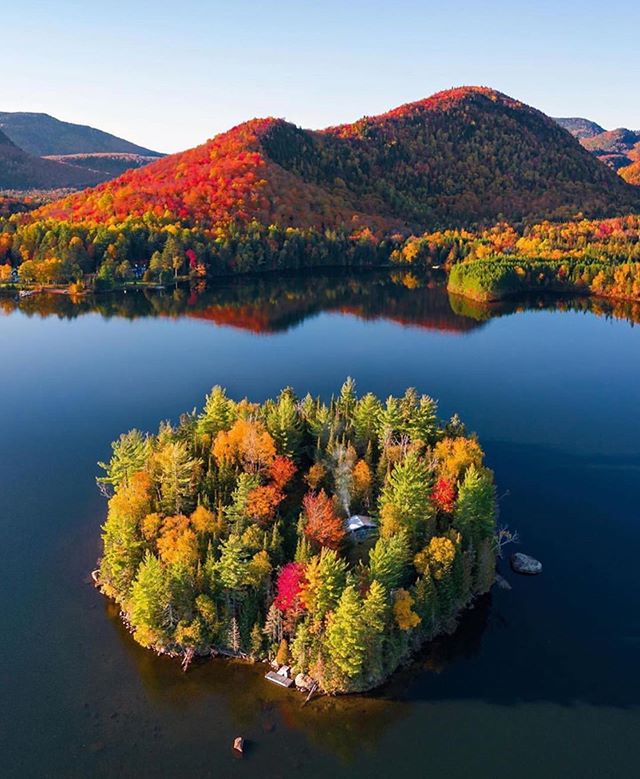mountain: (128, 34, 604, 182)
river: (1, 264, 617, 779)
sky: (1, 1, 640, 122)
vegetation: (136, 387, 499, 680)
